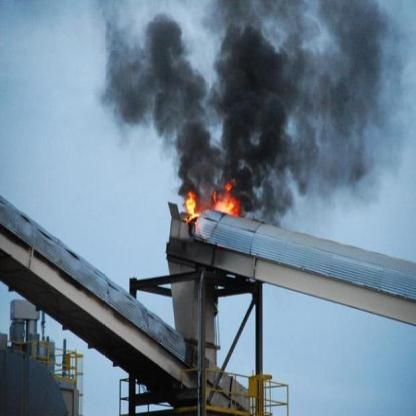fire: (209, 172, 245, 221), (183, 186, 202, 226)
